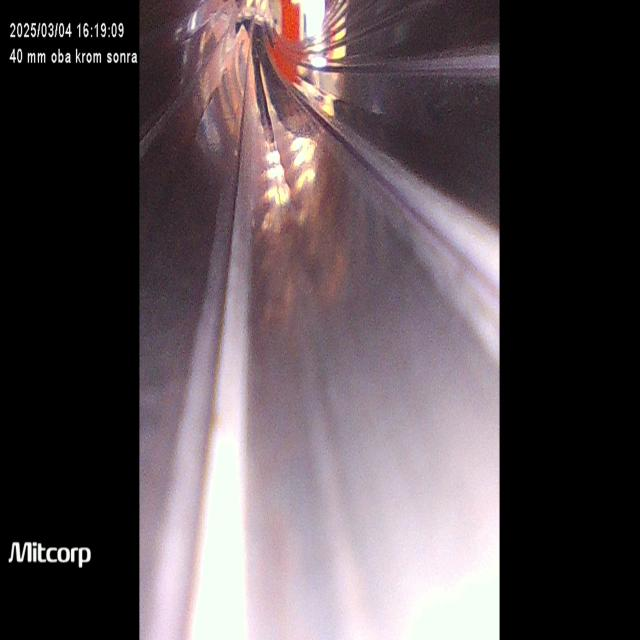hata_8.1: (380, 129, 501, 357)
